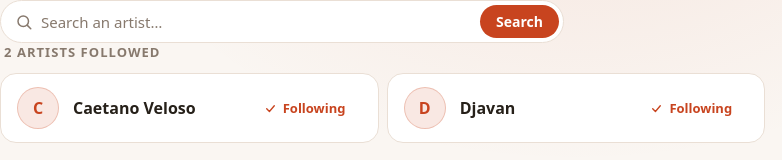
Test: unfollowing on the home removes the card
The image size is (782, 160).
Expected: the text "Caetano Veloso" is shown, [73,97,196,119]
What coordinates should you click on to do the following:
click the button with aria-label "Unfollow Caetano Veloso"
I would click on:
 (305, 108)
Its box is [248,92,362,125].
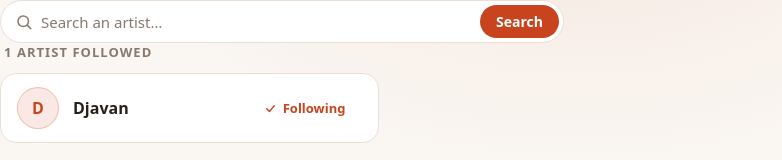
Expected: the text "Djavan" is shown, [73,97,129,119]
Expected: the text "1 artist followed" is shown, [4,43,152,61]
Expected: the link "Caetano Veloso" is gone
